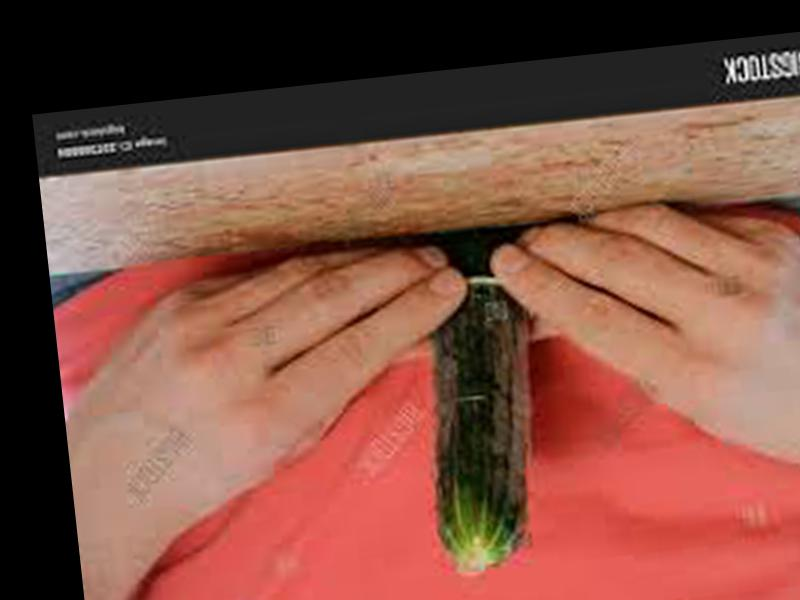Cucumber: (405, 228, 552, 574)
